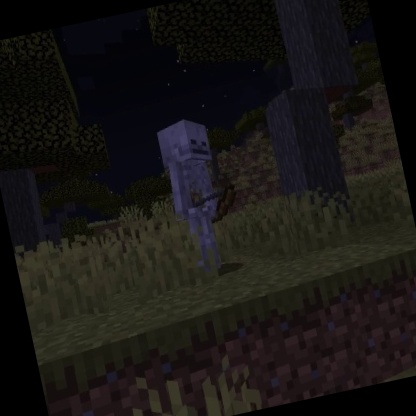skeleton: (149, 107, 254, 280)
